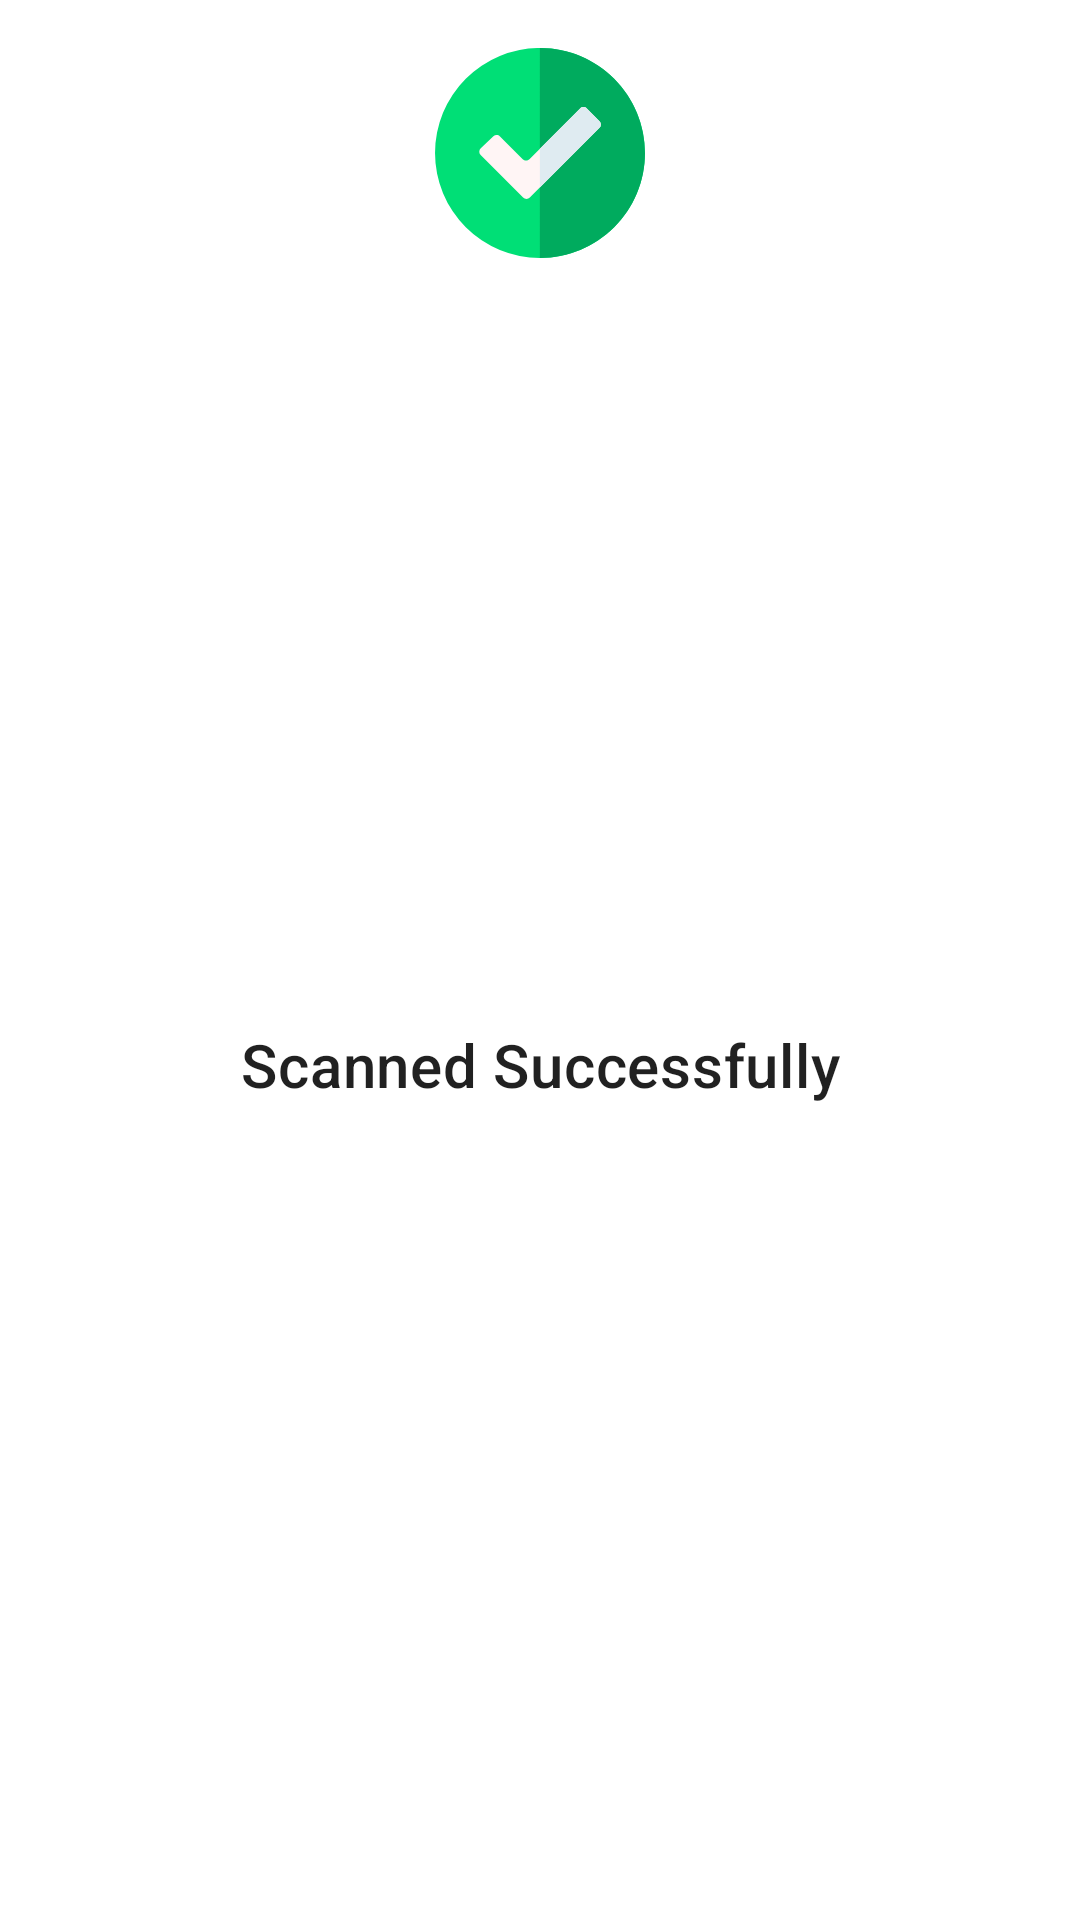

Icons on this 1080px x 1920px Android screen, each with its box as (x1, y1, x2, y2):
approve: (435, 48, 645, 258)
